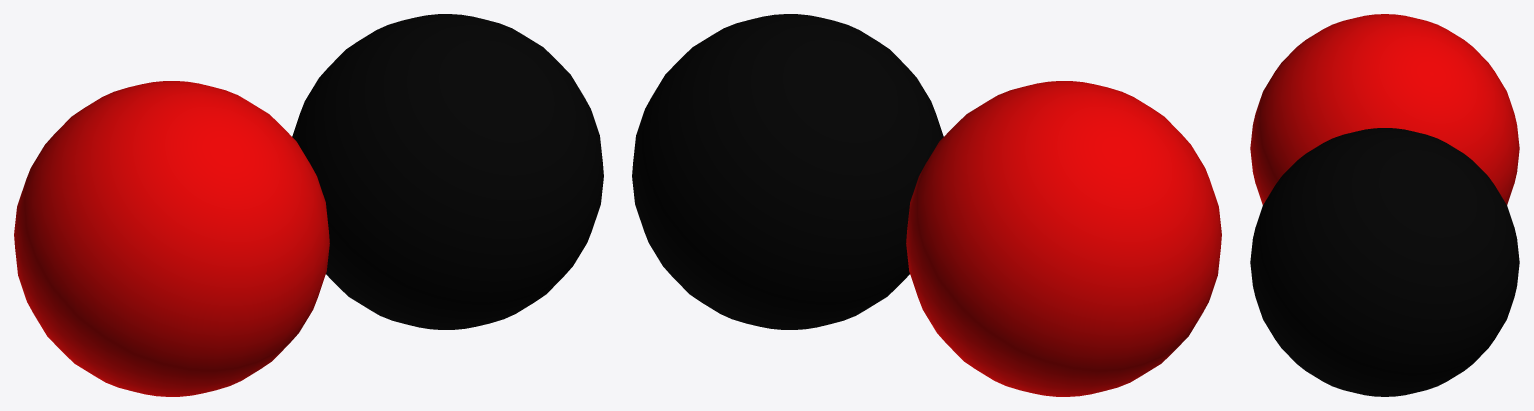
The model's file is spheres.glb.
3 renders of one model, left to right at view 1: azimuth 30°, elevation 25°; view 2: azimuth 150°, elevation 25°; view 3: azimuth 270°, elevation 25°, orthographic. The views are drawn at different scales.
Parts seen in each view (by area): view 1: RedSphere, BlackSphere; view 2: RedSphere, BlackSphere; view 3: BlackSphere, RedSphere.
Part boxes in pixels (x1,y1,x2,y2): RedSphere: [14, 81, 329, 396]; BlackSphere: [292, 14, 603, 329]; RedSphere: [906, 81, 1221, 396]; BlackSphere: [632, 14, 943, 329]; BlackSphere: [1250, 128, 1519, 396]; RedSphere: [1250, 14, 1519, 204].
Bounding box in the file's own units: 4 × 2 × 2.
